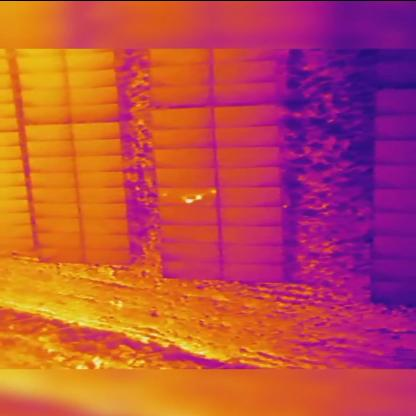hotspot: (184, 198, 194, 204), (196, 192, 205, 198), (210, 188, 218, 192)
